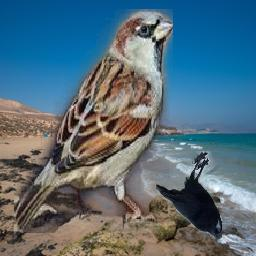Crow: (156, 151, 222, 239)
Sparrow: (15, 9, 174, 233)
